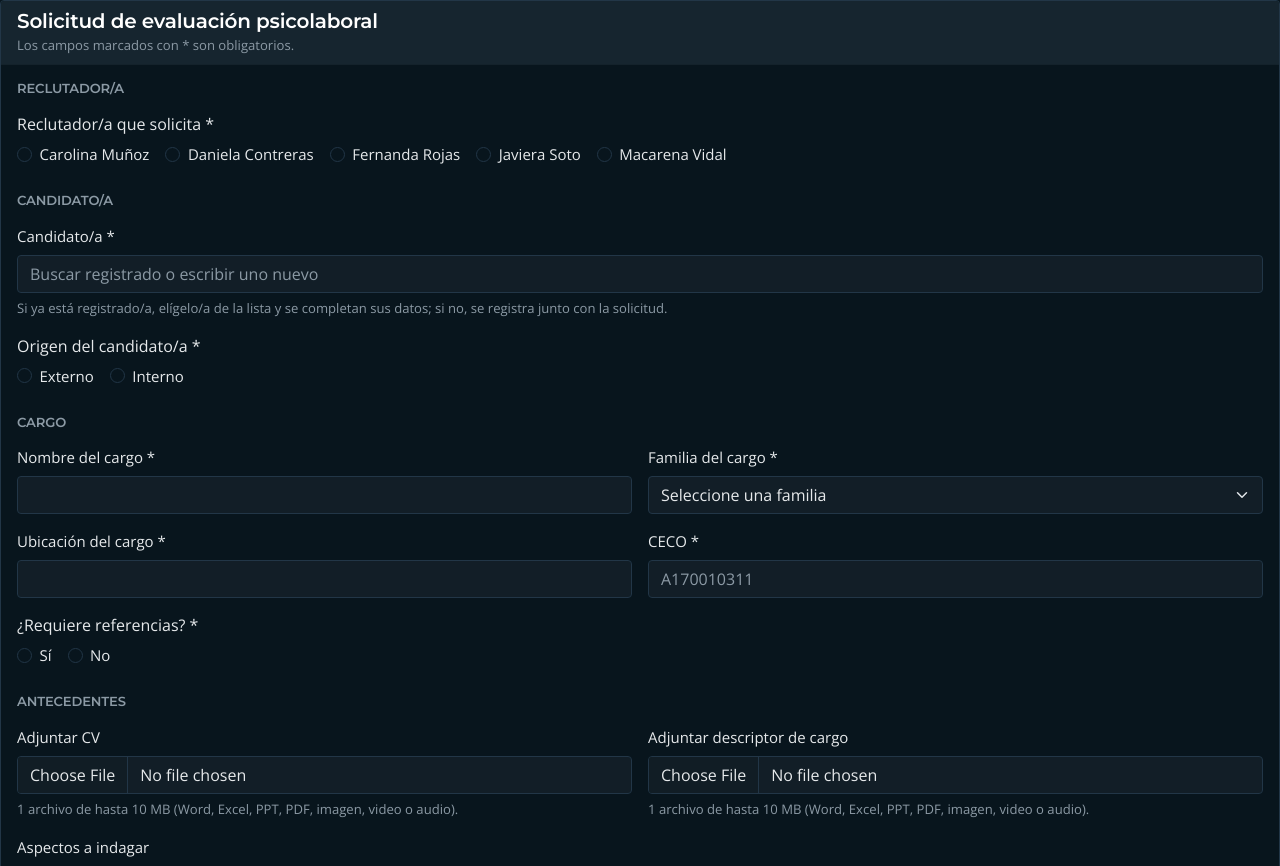
Test case: FormularioSolicitud › completa origen, cargo, familia y descriptor al escribir un candidato registrado
The width and height of the screenshot is (1280, 866).
Step 1. Type "maría gonzález" into the field labelled "Candidato/a *" → (640, 274), box [17,254,1263,292]
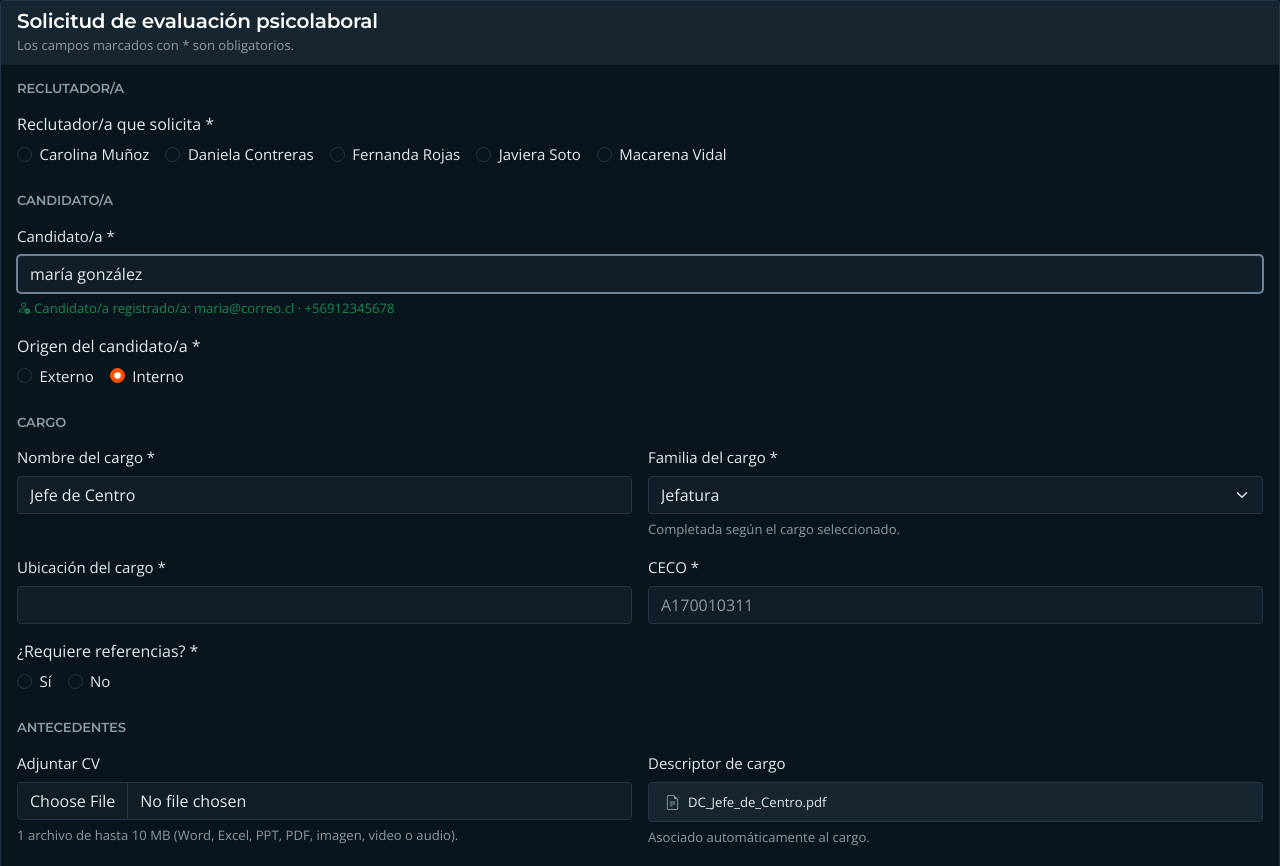
Expected: the text "Candidato/a registrado/a: maria@correo.cl · +56912345678" is shown, [17,298,394,316]
Expected: the radio button labelled "Interno" is checked, [110,368,125,383]
Expected: the field labelled "Nombre del cargo *" holds "Jefe de Centro", [17,476,632,514]
